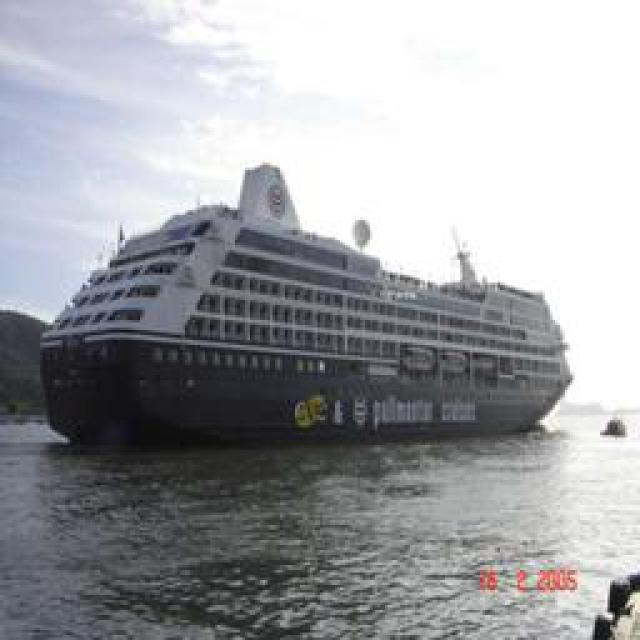Ship: (39, 161, 574, 451)
